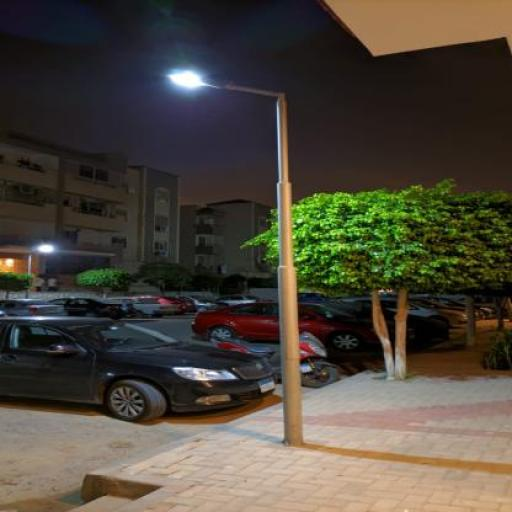street light: (162, 69, 306, 445), (24, 245, 54, 301), (245, 268, 250, 281)
